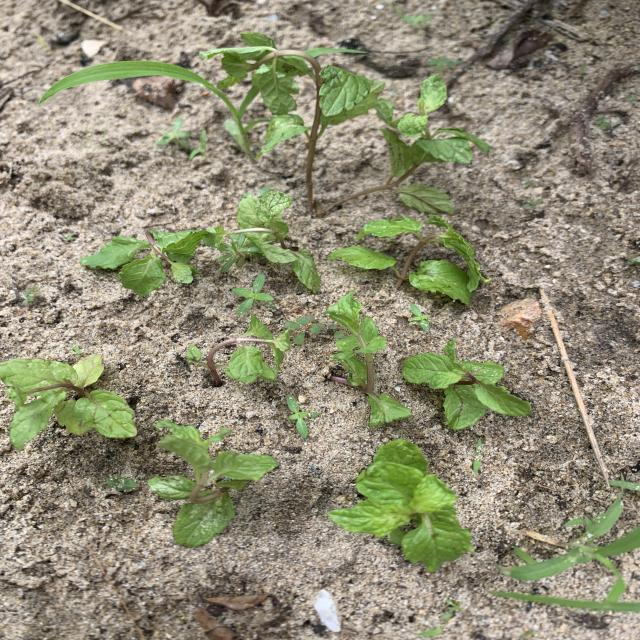crop: (205, 42, 489, 216), (329, 440, 473, 571), (149, 422, 276, 546), (329, 216, 486, 303), (1, 355, 135, 447), (326, 292, 411, 426), (403, 340, 530, 428), (234, 188, 319, 291), (81, 231, 209, 295), (186, 315, 291, 384)
weed: (41, 62, 279, 162), (499, 488, 639, 602), (233, 274, 274, 314), (216, 231, 257, 269), (287, 396, 318, 435), (284, 316, 323, 343), (391, 4, 431, 30), (304, 47, 366, 57), (410, 304, 430, 331), (106, 476, 138, 491), (428, 58, 462, 71), (442, 600, 460, 621), (23, 287, 40, 302), (524, 199, 543, 211), (419, 628, 441, 636), (521, 631, 535, 639), (71, 345, 82, 355), (473, 459, 481, 472)
